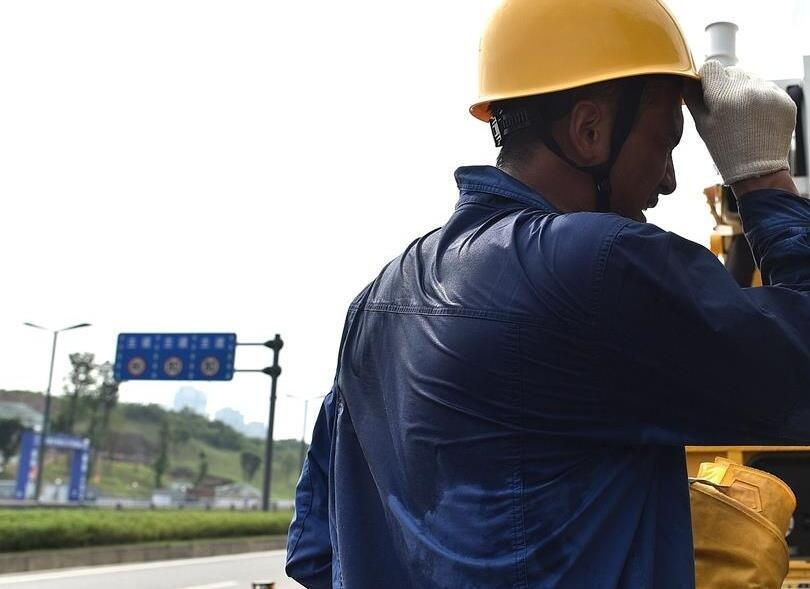yellow: (470, 3, 695, 221)
